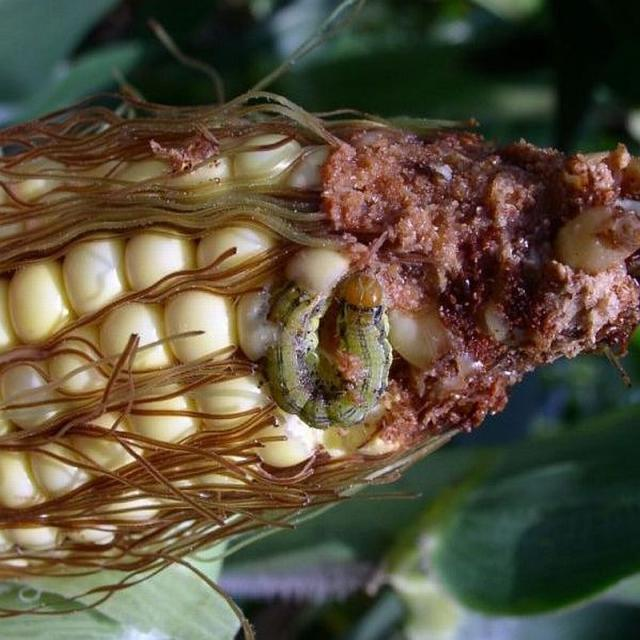Corn-earworm: (265, 262, 391, 428)
